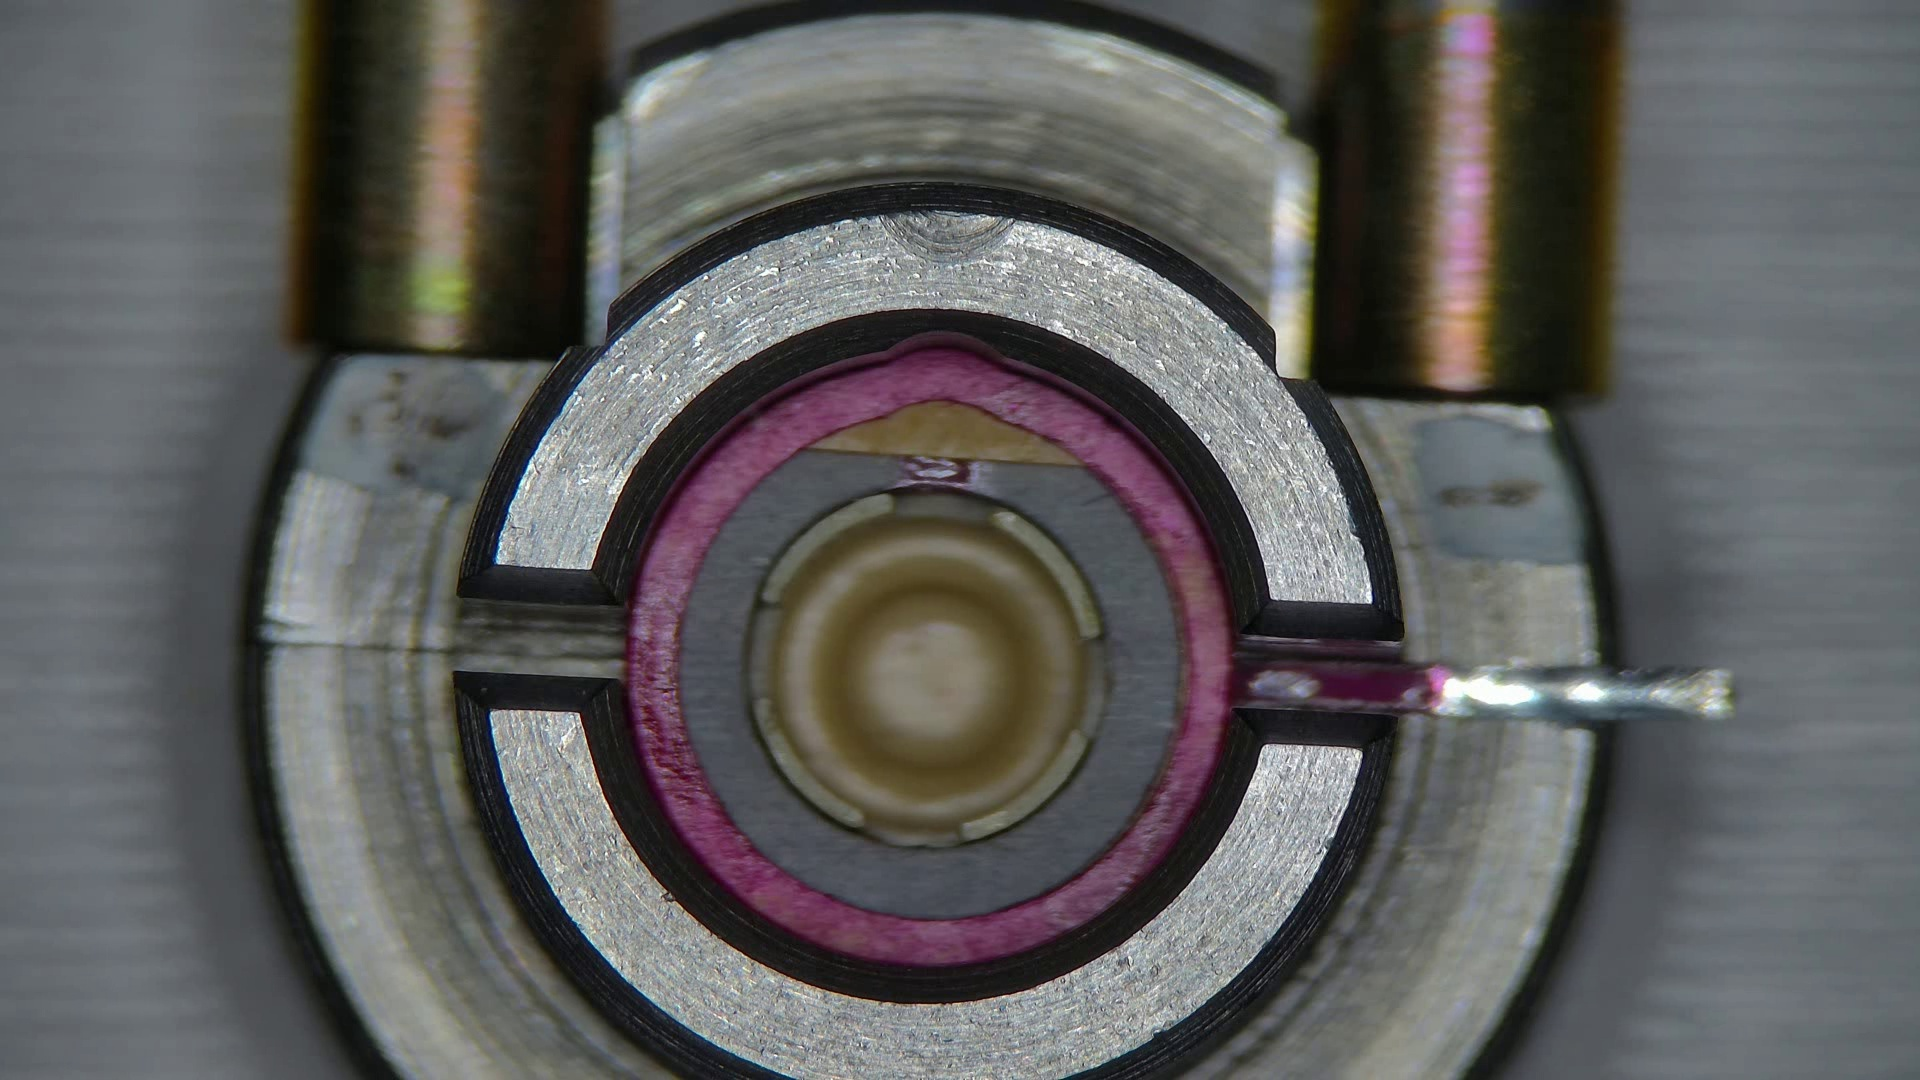GreyOring: (628, 347, 1234, 965)
YellowOring: (680, 458, 1182, 916)
redOring: (808, 404, 1077, 464)
